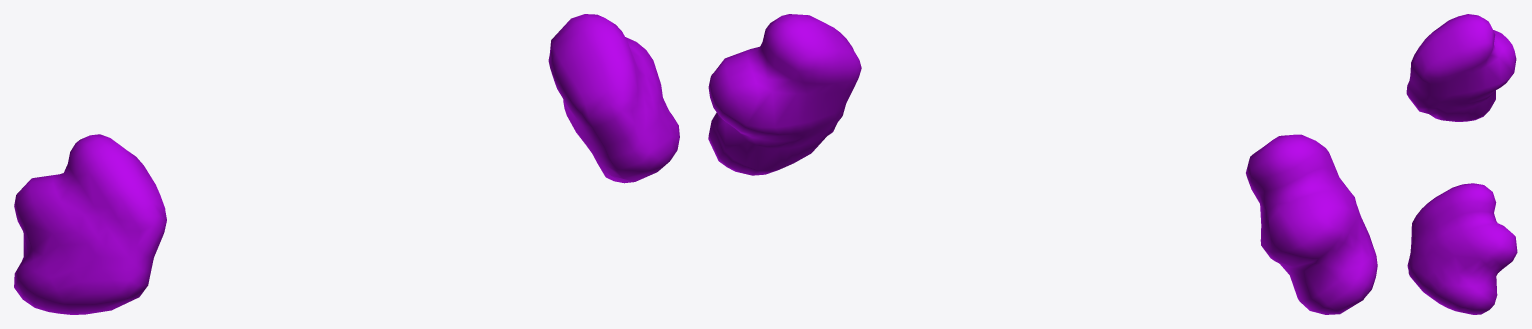
The model's file is SM_Fish_Flipper.fbx.
3 views of the same model, side by side, from view 1: azimuth 30°, elevation 25°; view 2: azimuth 150°, elevation 25°; view 3: azimuth 270°, elevation 25° (orthographic). The views are drawn at different scales.
Visible parts, largest first — view 1: Cube.001; view 2: Cube.001; view 3: Cube.001.
Part boxes in pixels (bbox=[...]): Cube.001: bbox=[14, 14, 679, 314]; Cube.001: bbox=[708, 14, 1377, 314]; Cube.001: bbox=[1406, 14, 1517, 314].
Bounding box in the file's own units: 198 × 47.17 × 41.73.
